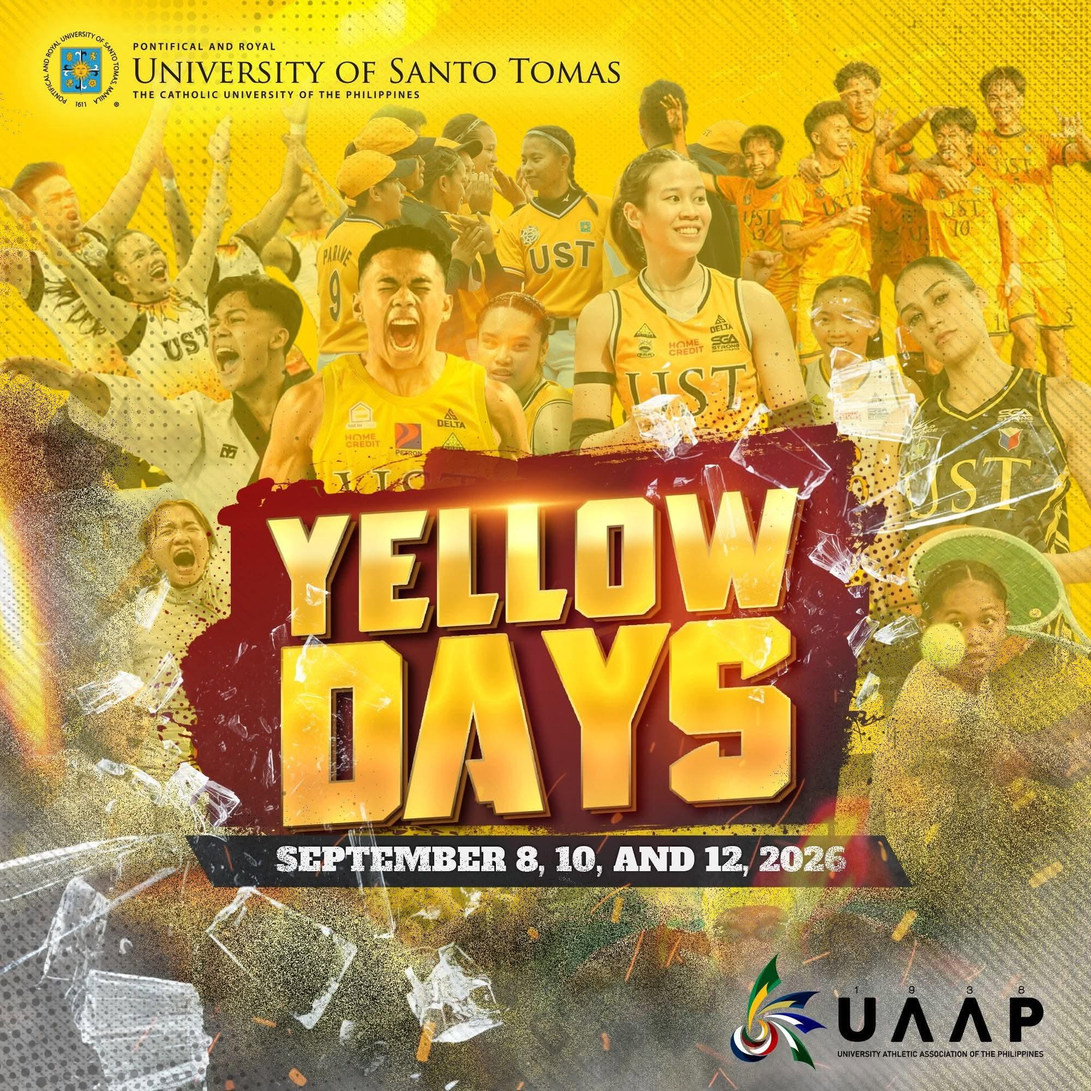logo: (716, 946, 828, 1075), (33, 22, 127, 111)
text: (260, 480, 806, 832), (124, 29, 630, 109), (271, 840, 847, 875), (833, 978, 1057, 1063)
underlay: (181, 428, 864, 831), (181, 831, 918, 891)
